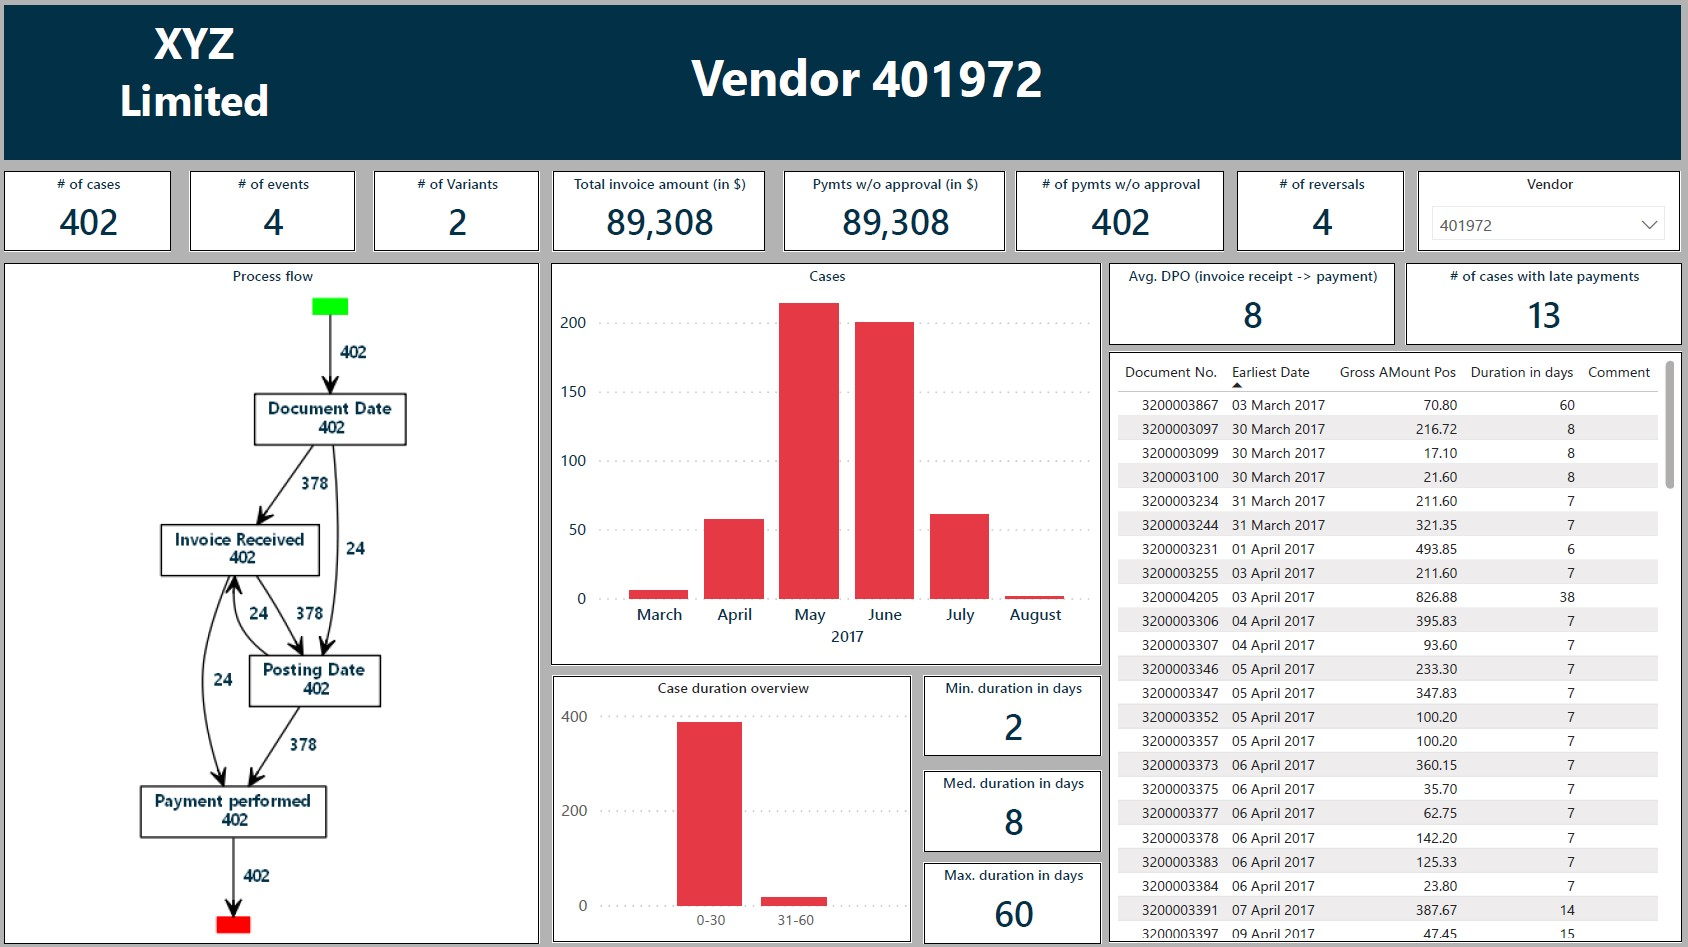

The dashboard page shown, as its layout file describes it:
{"tool":"powerbi","page":{"name":"Vendors","canvas":[1280,720],"ordinal":4},"visuals":[{"type":"shape","box":[11.7,10.7,1256.7,115.7],"z":0},{"type":"textbox","box":[20.4,10.7,268.2,107.9],"z":1000},{"type":"card","title":"# of events","fields":{"Values":["Count(P2P_Final.Events)"]},"box":[150.6,135.1,124.4,60.3],"z":2000},{"type":"tableEx","fields":{"Values":["Distinct_log.Document No.","P2P_Final.Date","Distinct_log.Gross AMount Pos","Distinct_log.Duration in days","Distinct_log.Comment"]},"box":[840.4,269.8,428.4,443],"z":3000},{"type":"pythonVisual","title":"Process flow","fields":{"Values":["P2P_Final.Document No.","P2P_Final.Date","P2P_Final.Events","P2P_Final.Event_ID"]},"box":[12.4,203.9,400.2,509.9],"z":4000},{"type":"slicer","title":"Vendor","fields":{"Values":["Distinct_log.Account"]},"box":[1071,135.1,197.3,60.3],"z":5000},{"type":"card","title":"Total invoice amount (in $)","fields":{"Values":["Sum(Distinct_log.Gross AMount Pos)"]},"box":[422.8,135.1,159.4,60.3],"z":6000},{"type":"card","title":"# of cases","fields":{"Values":["CountNonNull(Distinct_log.Document No.)"]},"box":[11.7,135.1,125.4,60.3],"z":7000},{"type":"card","title":"Min. duration in days","fields":{"Values":["Min(Distinct_log.Duration in days)"]},"box":[700.8,512.9,132.7,60.3],"z":8000},{"type":"card","title":"Med. duration in days","fields":{"Values":["Median(Distinct_log.Duration in days)"]},"box":[700.8,584.4,132.7,60.3],"z":9000},{"type":"card","title":"Max. duration in days","fields":{"Values":["Max(Distinct_log.Duration in days)"]},"box":[700.8,653.4,132.7,60.3],"z":10000},{"type":"card","title":"# of Variants","fields":{"Values":["Count(Distinct_log.Variants)"]},"box":[288.7,135.1,124.4,60.3],"z":11000},{"type":"card","fields":{"Values":["Min(Distinct_log.Account)"]},"box":[649.9,31,153.4,67.2],"z":12000},{"type":"clusteredColumnChart","title":"Case duration overview","fields":{"Y":["CountNonNull(Distinct_log.Document No.)"],"Category":["Distinct_log.Nested duration"]},"box":[422.8,513.2,269.2,200.2],"z":13000},{"type":"clusteredColumnChart","title":"Cases","fields":{"Category":["P2P_Final.Date.Variation.Date Hierarchy.Year","P2P_Final.Date.Variation.Date Hierarchy.Month"],"Y":["Count(P2P_Final.Document No.)"]},"box":[422.4,204.3,411.2,300.8],"z":14000},{"type":"card","title":"Pymts w/o approval (in $)","fields":{"Values":["Sum(Distinct_log.Gross AMount Pos)"]},"box":[595.8,135.1,166.2,60.3],"z":15000},{"type":"card","title":"Avg. DPO (invoice receipt -> payment)","fields":{"Values":["Avg(Event_duration.Inv_Rec_Paymt)"]},"box":[840.4,204.3,213.8,60.3],"z":16000},{"type":"card","title":"# of cases with late payments","fields":{"Values":["CountNonNull(Event_duration.Inv_Rec_Paymt)"]},"box":[1061.9,204.3,206.9,60.3],"z":17000},{"type":"card","title":"# of reversals","fields":{"Values":["CountNonNull(Distinct_log.Comment)"]},"box":[935.9,135.1,125.4,60.3],"z":18000},{"type":"card","title":"# of pymts w/o approval","fields":{"Values":["CountNonNull(Event_duration.No_approval)"]},"box":[769.7,135.1,156.5,60.3],"z":19000},{"type":"textbox","box":[486.3,34.5,207.7,67.2],"z":20000}]}

Visuals, with their boxes in screenshot pixels (x1, y1, x2, y2), scaled from the page's 1280x720 canvas onto the 1688x947 screenshot:
shape: (left=15, top=14, right=1673, bottom=166)
textbox: (left=27, top=14, right=381, bottom=156)
"# of events" card: (left=199, top=178, right=363, bottom=257)
tableEx - Distinct_log.Document No. x P2P_Final.Date: (left=1108, top=355, right=1673, bottom=938)
"Process flow" pythonVisual: (left=16, top=268, right=544, bottom=939)
"Vendor" slicer: (left=1412, top=178, right=1673, bottom=257)
"Total invoice amount (in $)" card: (left=558, top=178, right=768, bottom=257)
"# of cases" card: (left=15, top=178, right=181, bottom=257)
"Min. duration in days" card: (left=924, top=675, right=1099, bottom=754)
"Med. duration in days" card: (left=924, top=769, right=1099, bottom=848)
"Max. duration in days" card: (left=924, top=859, right=1099, bottom=939)
"# of Variants" card: (left=381, top=178, right=545, bottom=257)
card - Min(Distinct_log.Account): (left=857, top=41, right=1059, bottom=129)
"Case duration overview" clusteredColumnChart: (left=558, top=675, right=913, bottom=938)
"Cases" clusteredColumnChart: (left=557, top=269, right=1099, bottom=664)
"Pymts w/o approval (in $)" card: (left=786, top=178, right=1005, bottom=257)
"Avg. DPO (invoice receipt -> payment)" card: (left=1108, top=269, right=1390, bottom=348)
"# of cases with late payments" card: (left=1400, top=269, right=1673, bottom=348)
"# of reversals" card: (left=1234, top=178, right=1400, bottom=257)
"# of pymts w/o approval" card: (left=1015, top=178, right=1221, bottom=257)
textbox: (left=641, top=45, right=915, bottom=134)
